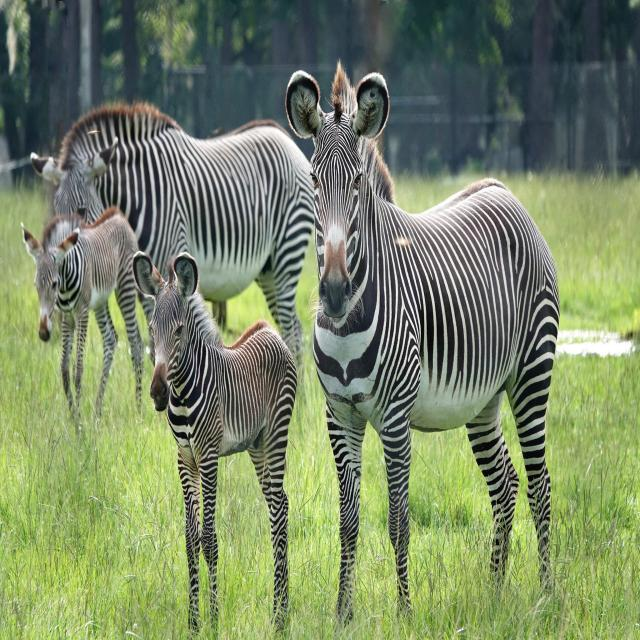zebra: (24, 65, 559, 634), (87, 168, 93, 178)
